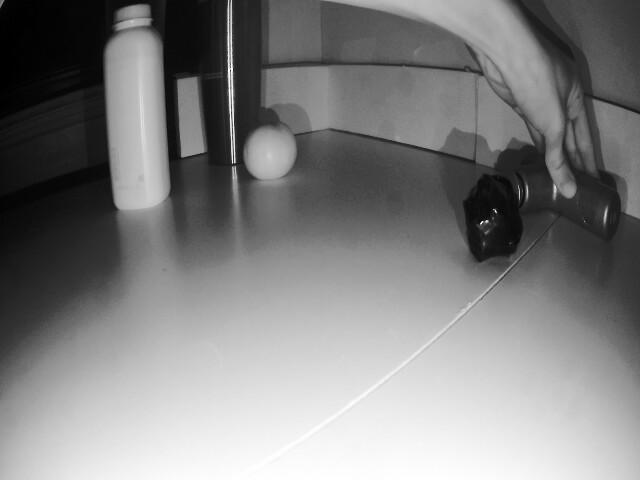silver: (461, 163, 513, 259)
